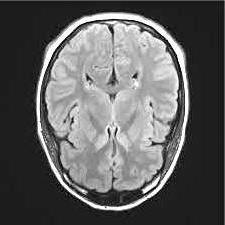Normal_Brain: (21, 1, 222, 225)
